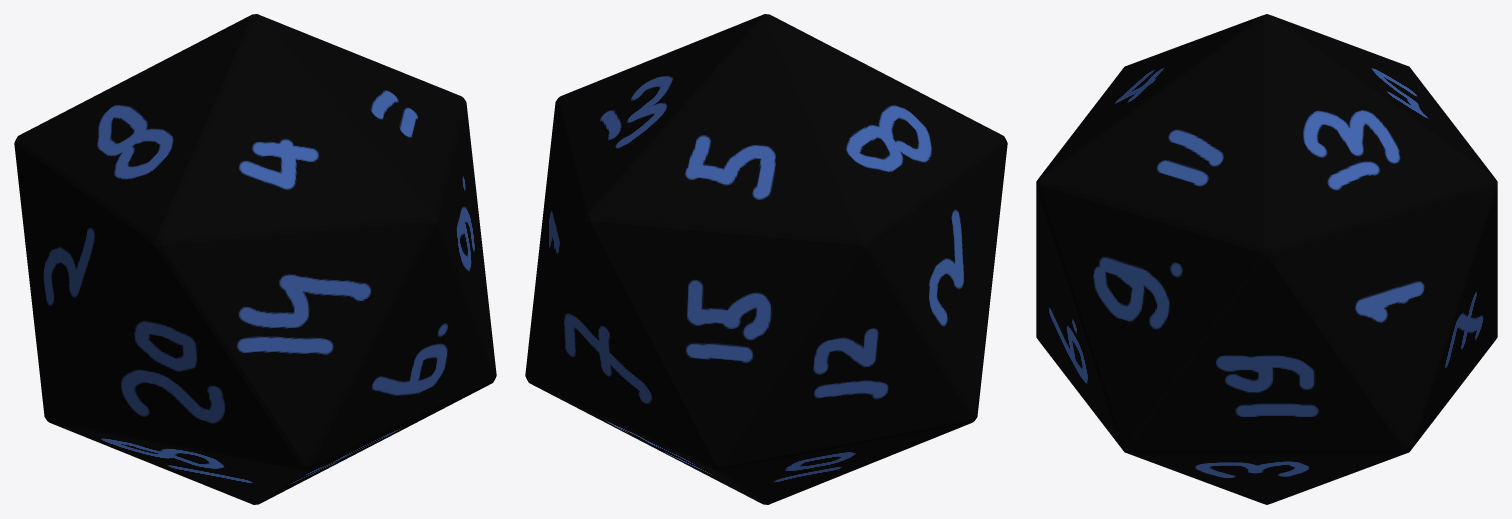
3 views of the same model, side by side, from view 1: azimuth 30°, elevation 25°; view 2: azimuth 150°, elevation 25°; view 3: azimuth 270°, elevation 25° (orthographic).
Parts seen in each view (by area): view 1: D20; view 2: D20; view 3: D20.
Boxes of the visible parts, x1,y1,x2,y2 form: D20: [14, 14, 496, 504]; D20: [525, 14, 1007, 504]; D20: [1036, 14, 1497, 504].
Size of the model in its own units: 1.78 by 1.98 by 1.69.
1 material, 1 textured.
